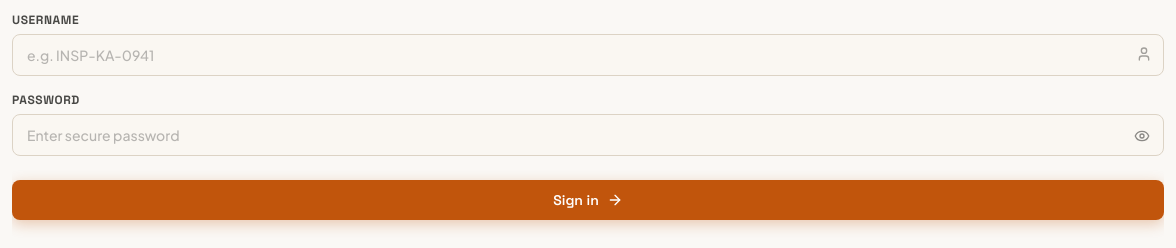
Scenario: login form › reveals and hides the password without losing its value
The image size is (1176, 248).
Type "remember me" into the password field labelled "Password" at (588, 135), box [12, 114, 1164, 156]
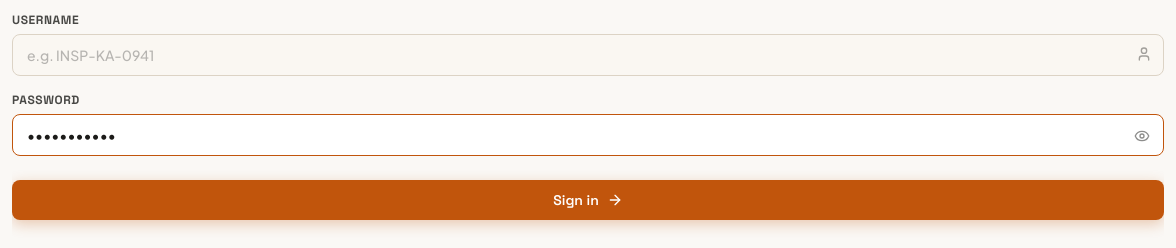
Click the button named "Show password" at (1142, 136), box [1130, 124, 1154, 148]
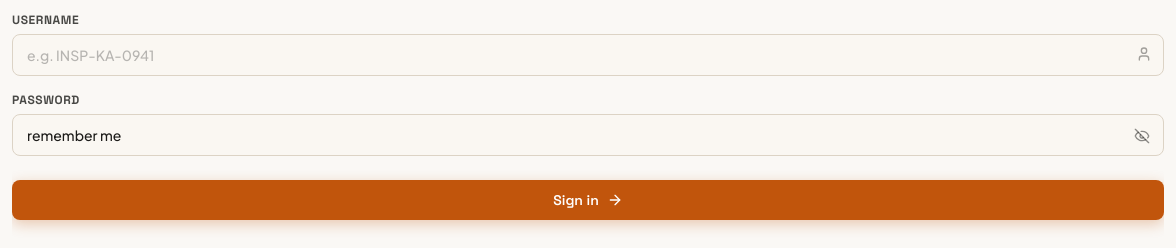
expect the field labelled "Password" shows its text: met, box [12, 114, 1164, 156]
Click the button named "Hide password" at (1142, 136), box [1130, 124, 1154, 148]
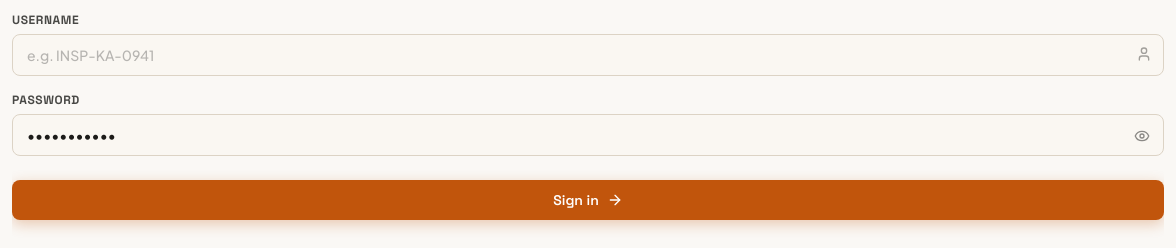
expect the password field labelled "Password" hides its text: met, box [12, 114, 1164, 156]
